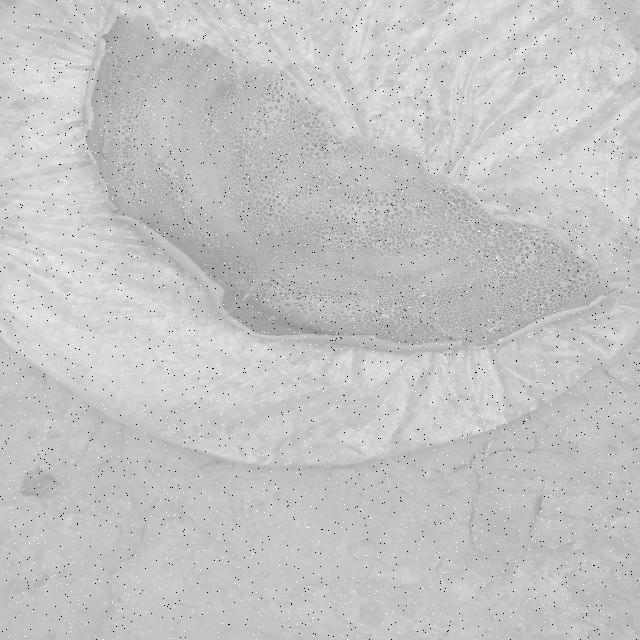injera_mold: (476, 317, 504, 333), (489, 222, 511, 238), (485, 252, 507, 267), (378, 309, 396, 320), (408, 306, 422, 318), (516, 313, 532, 323), (265, 314, 281, 322), (352, 227, 365, 235), (493, 303, 506, 311), (238, 278, 247, 286), (352, 242, 360, 251), (550, 298, 560, 305), (460, 335, 471, 341), (539, 306, 550, 312), (510, 300, 516, 308), (570, 273, 578, 279), (326, 251, 332, 257), (420, 292, 427, 297), (509, 326, 516, 331), (142, 183, 148, 188), (458, 317, 464, 321), (581, 276, 587, 280), (380, 296, 387, 299), (403, 284, 408, 288), (320, 328, 325, 330), (316, 304, 320, 306), (320, 301, 322, 303), (429, 296, 431, 297)
